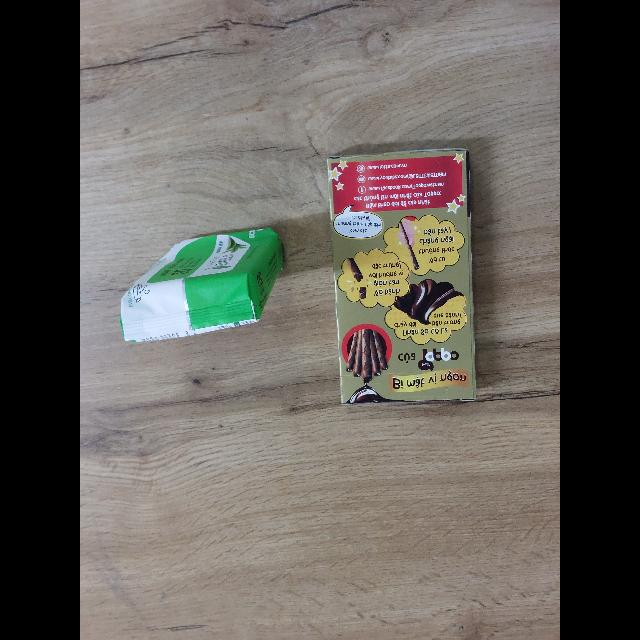banh_toppo_socola: (327, 145, 478, 406)
khan_giay: (119, 224, 285, 342)
